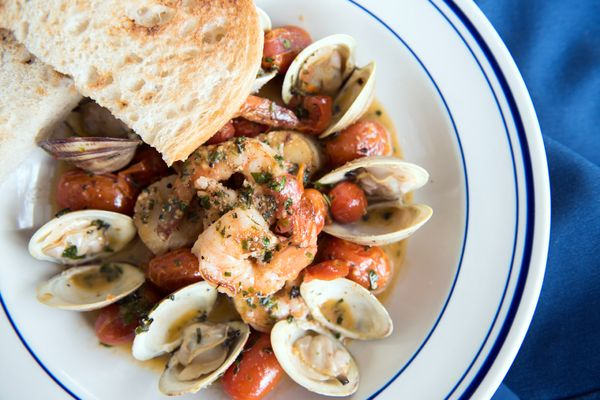soup: (2, 0, 271, 165)
